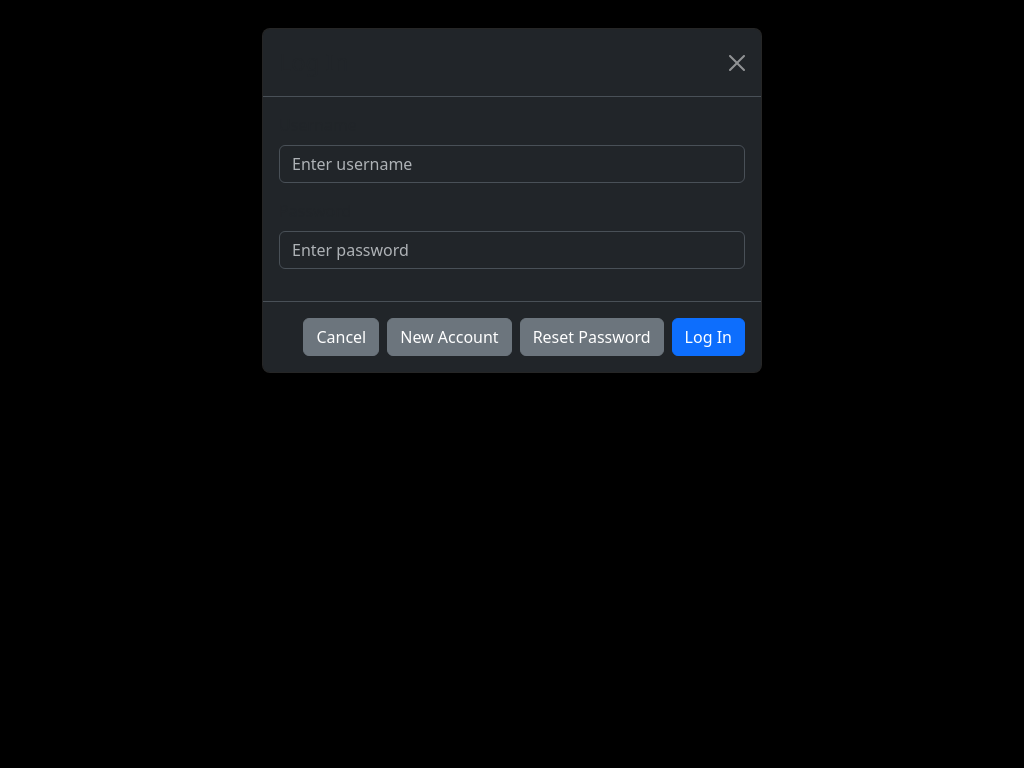
Test: log-in menu › functionality › should alert if login failure
Step 1. Type "user" into the field with placeholder "Enter username" → (512, 164), box x1=279 y1=145 x2=745 y2=183
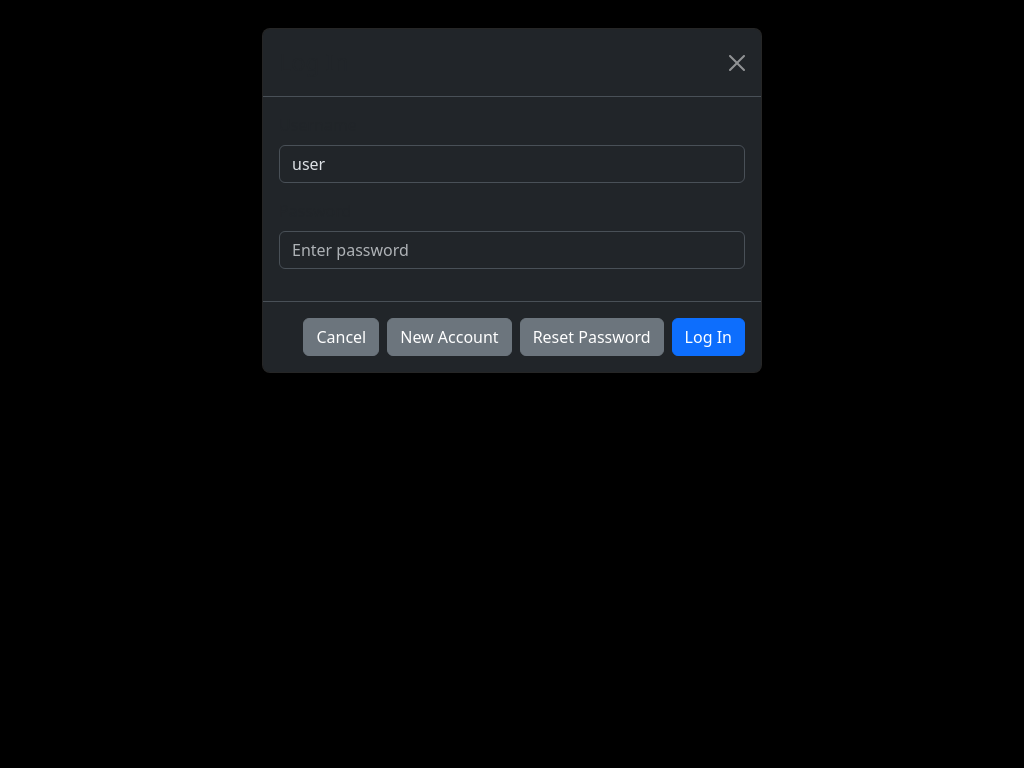
Step 2. Click the button "Log In" → click(708, 337), box x1=672 y1=318 x2=745 y2=356
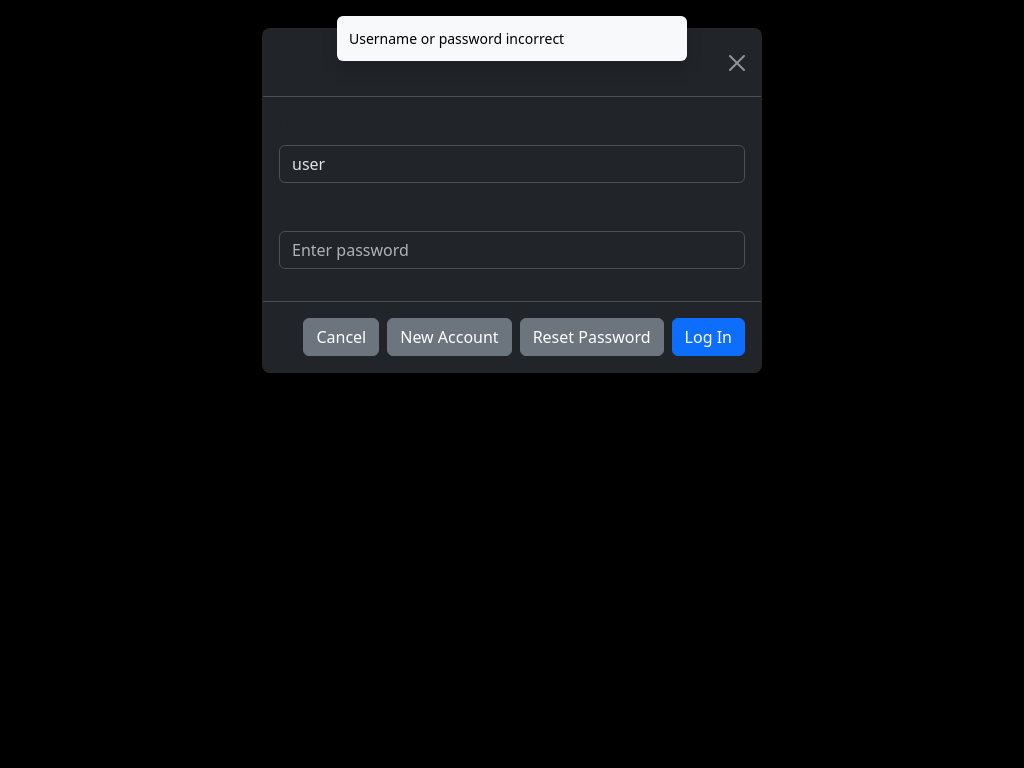
Now the text "Username or password incorrect" is shown, box x1=349 y1=29 x2=564 y2=48
